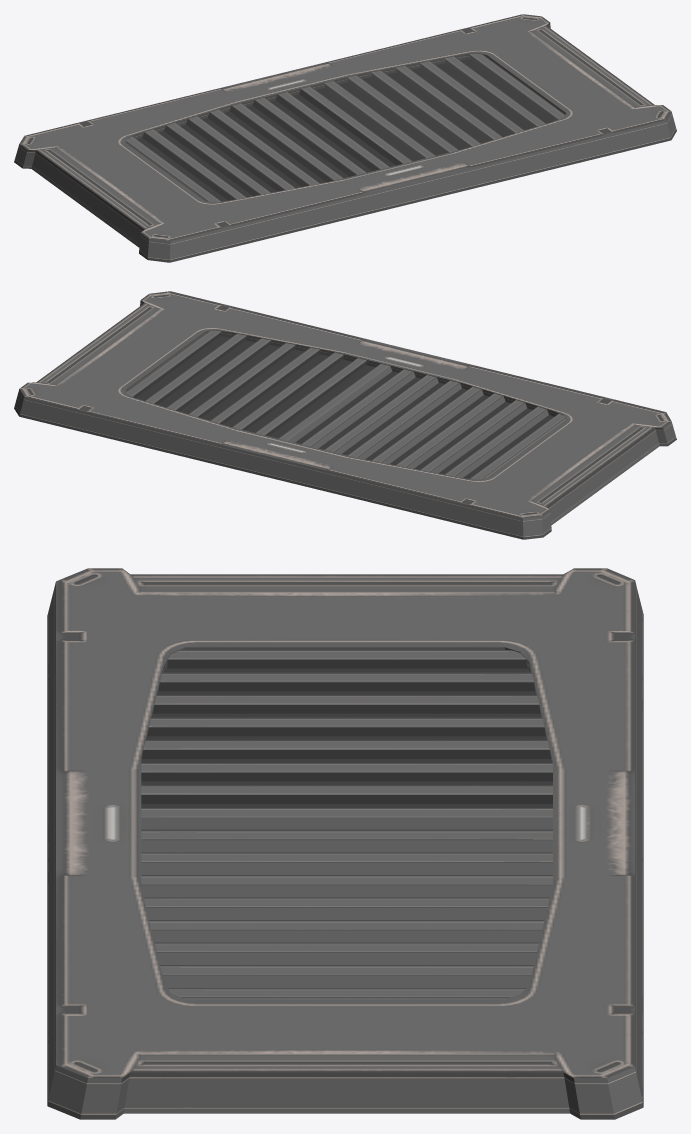
Rendered from Prop_Vent_Big.gltf.
3 views of the same model, one above another, from view 1: azimuth 30°, elevation 25°; view 2: azimuth 150°, elevation 25°; view 3: azimuth 270°, elevation 25° (orthographic). The views are drawn at different scales.
Visible parts, largest first — view 1: Prop_Vent_Big; view 2: Prop_Vent_Big; view 3: Prop_Vent_Big.
Boxes of the visible parts, x1,y1,x2,y2 form: Prop_Vent_Big: (14,14,676,262); Prop_Vent_Big: (14,291,676,539); Prop_Vent_Big: (47,568,643,1119).
Bounding box in the file's own units: 2 × 0.0688 × 0.9764.
Materials: 2 (2 with a texture image).
